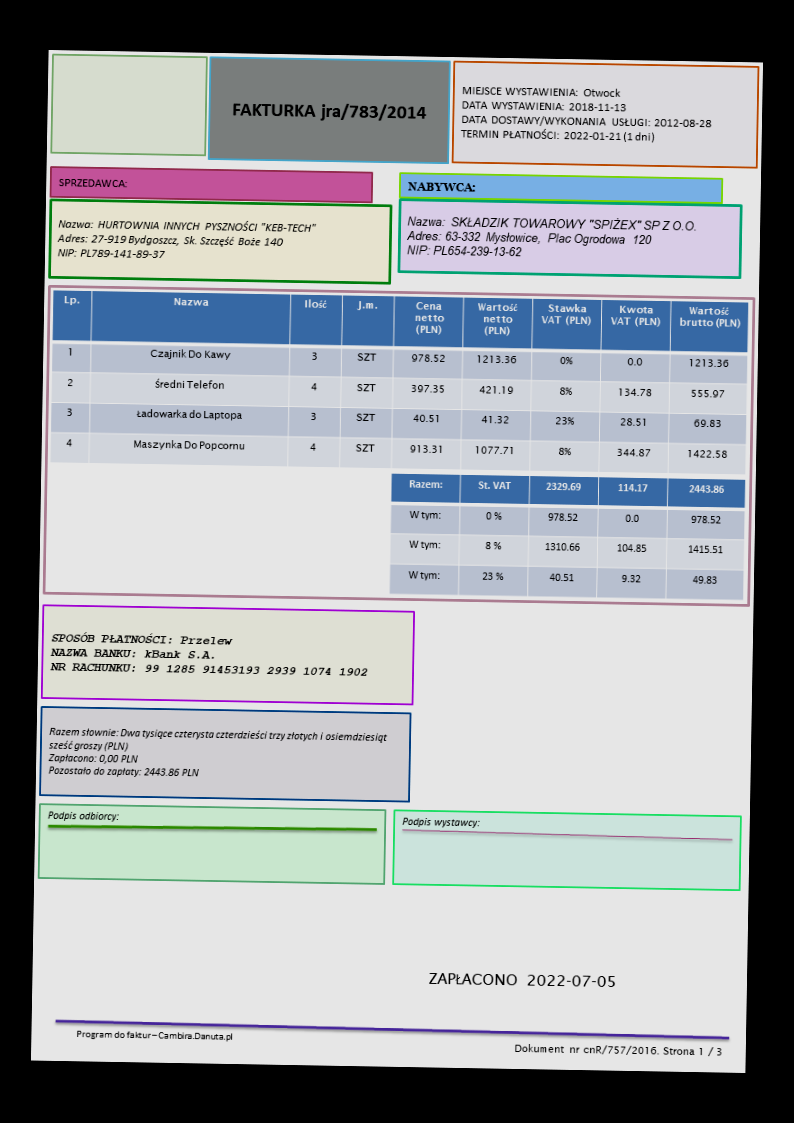Table: (49, 288, 749, 475), (388, 471, 745, 600)
TextBox: (46, 723, 390, 784), (49, 628, 370, 681), (458, 81, 716, 146), (403, 211, 697, 266), (55, 215, 317, 267), (228, 98, 429, 123), (426, 968, 616, 991), (513, 1040, 724, 1059), (74, 1025, 236, 1043), (399, 813, 481, 832), (54, 173, 128, 192), (46, 806, 120, 824), (404, 178, 477, 195)
